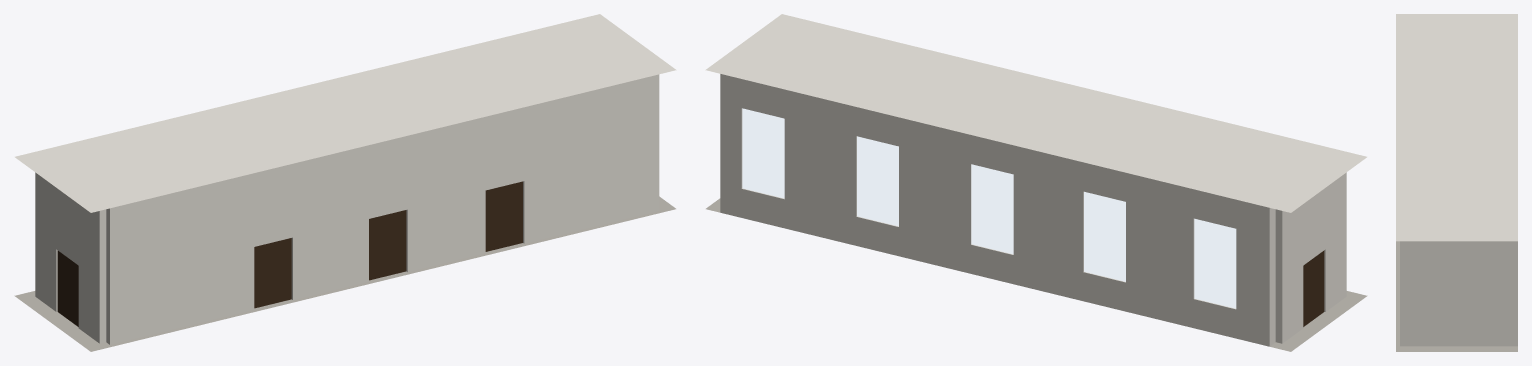
File: corridor.glb
3 views of the same model, side by side, from view 1: azimuth 30°, elevation 25°; view 2: azimuth 150°, elevation 25°; view 3: azimuth 270°, elevation 25° (orthographic). The views are drawn at different scales.
Parts seen in each view (by area): view 1: room; view 2: room; view 3: room.
Part boxes in pixels (box(x1,y1,x2,y2)): room: box(14, 14, 676, 351); room: box(705, 14, 1367, 351); room: box(1396, 14, 1517, 351).
Bounding box in the file's own units: 27.35 × 6.22 × 6.2.
